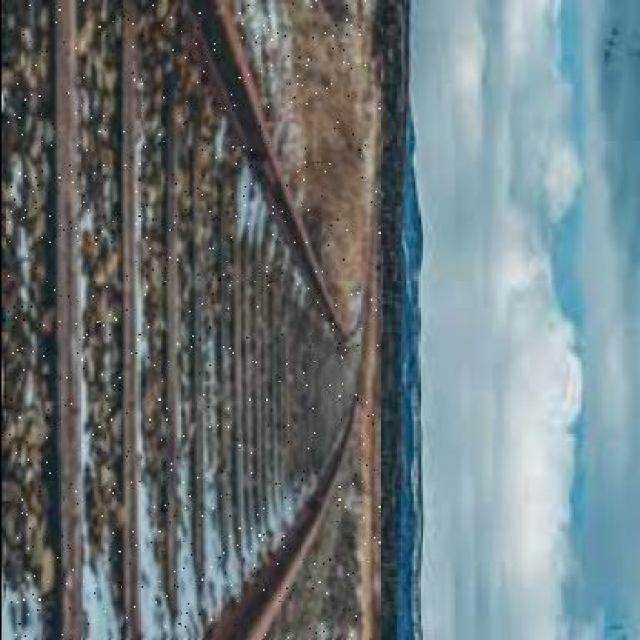rail: (6, 0, 378, 638)
